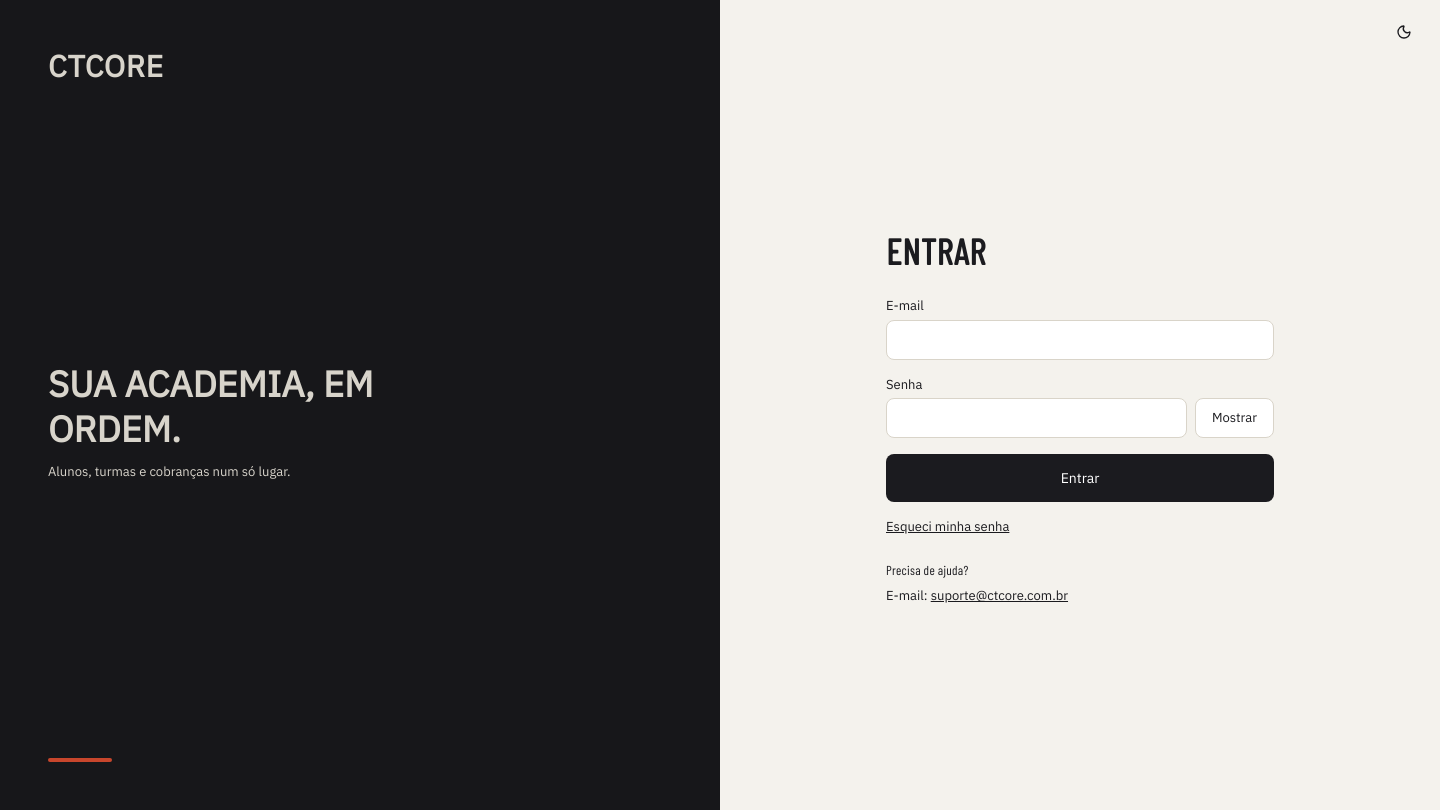
Test case: ForgotPasswordPage › CA1: mostra E-mail, Enviar link e o link Entrar; o login leva até aqui
This screenshot has width=1440, height=810.
Click the link "Esqueci minha senha" at {"x": 948, "y": 527}, box [886,518,1009,535]
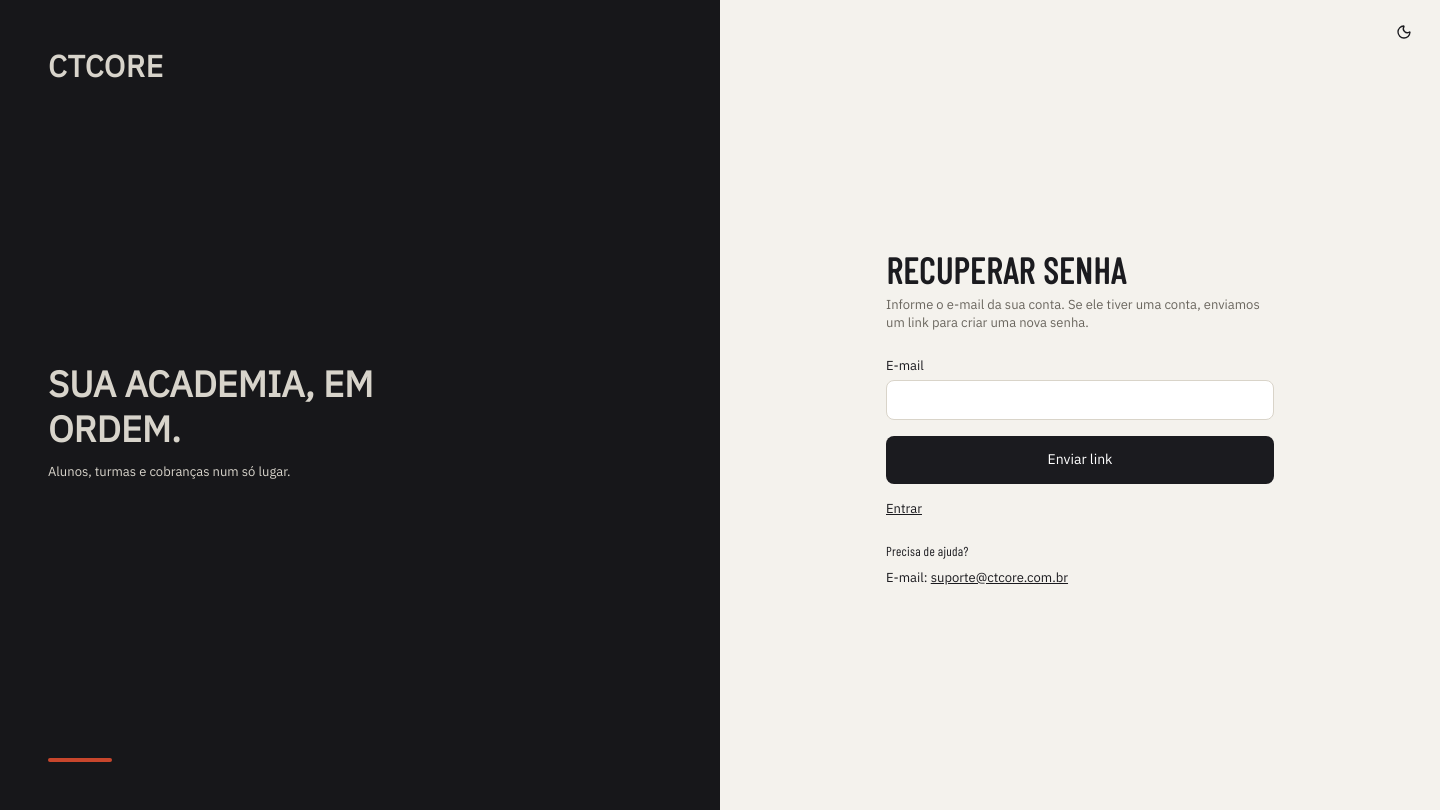
Expected: the heading "Recuperar senha" is shown, [886,248,1126,291]
Expected: the button "Enviar link" is shown, [886,436,1274,484]
